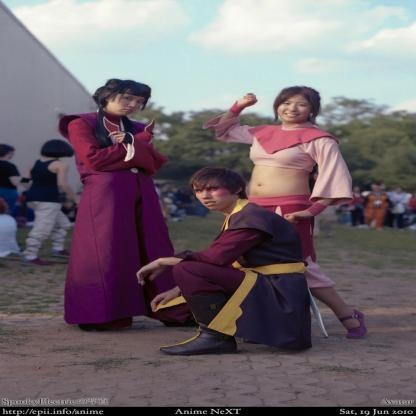face: (194, 181, 239, 212), (279, 95, 312, 123), (110, 91, 144, 117)
